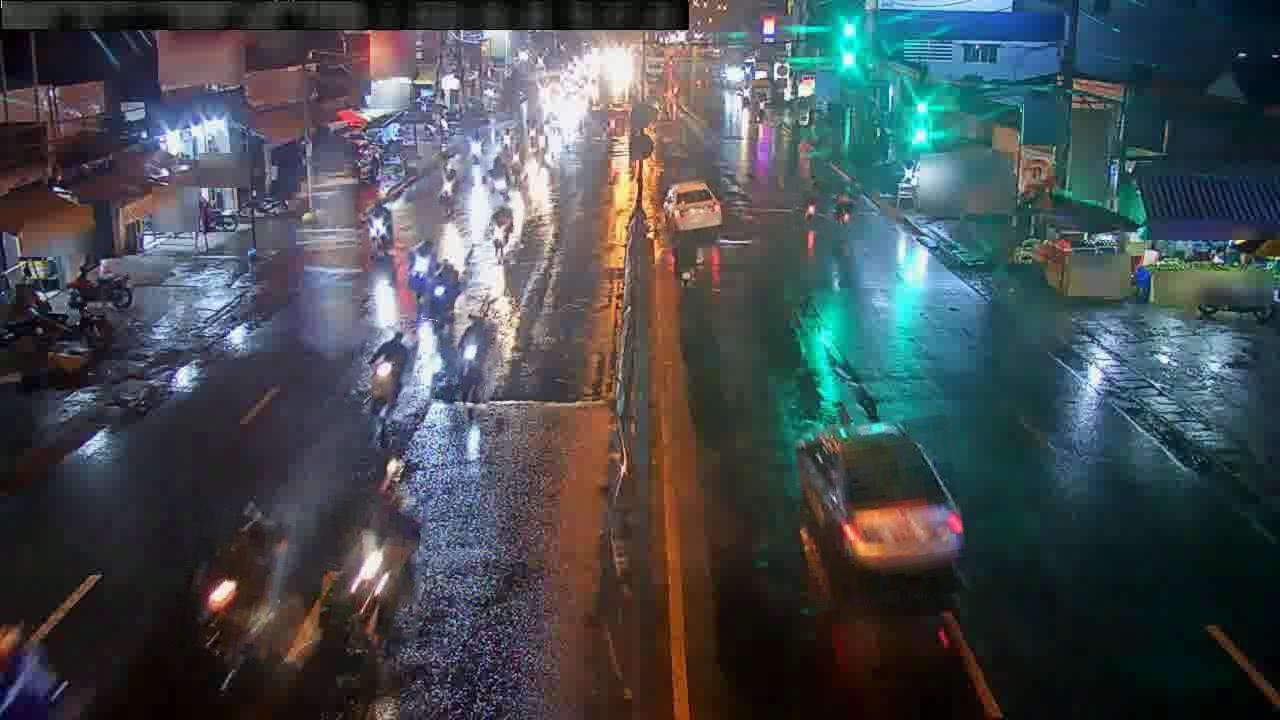Car: (797, 422, 965, 578), (663, 181, 722, 234)
Motorcyclist: (192, 503, 286, 662), (323, 492, 420, 639), (433, 314, 495, 404), (366, 330, 414, 417), (68, 258, 131, 309), (424, 262, 463, 321), (487, 205, 519, 261), (406, 239, 436, 292), (798, 179, 829, 230), (364, 201, 393, 255), (831, 182, 859, 228), (485, 153, 511, 200), (436, 160, 458, 205)
